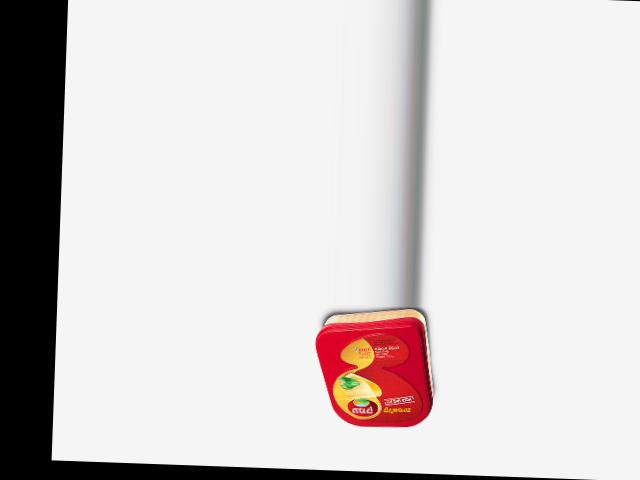cheese: (312, 305, 436, 429)
